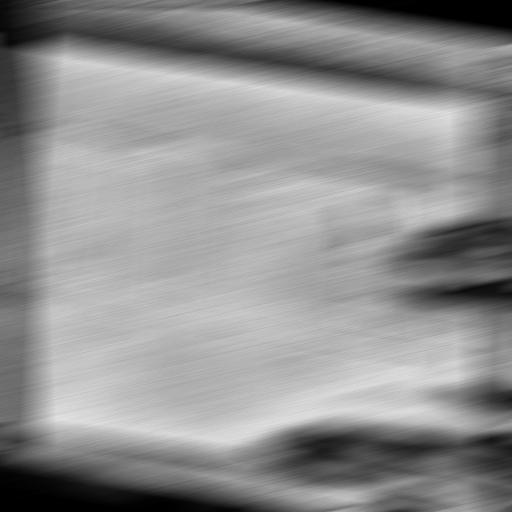bottom_left: (473, 481, 504, 487)
bottom_right: (468, 98, 501, 106)
door: (0, 114, 505, 364)
